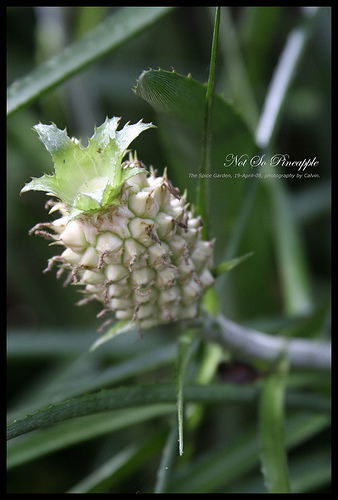pineapple: (35, 106, 214, 331)
